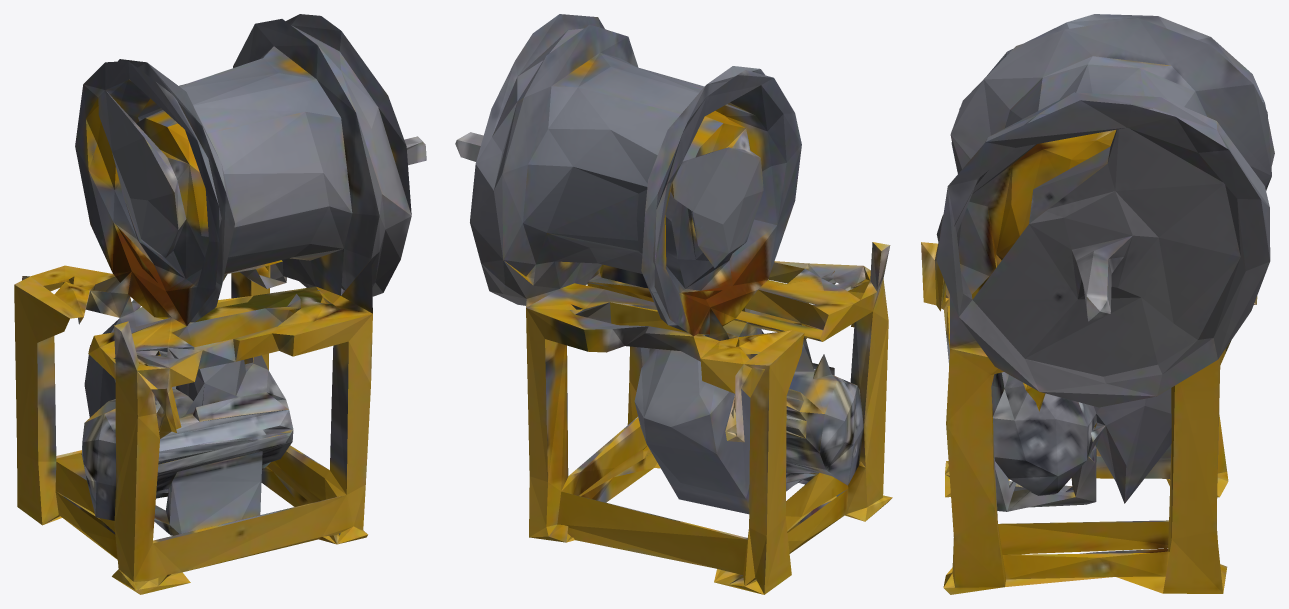
Rendered from zip_winch.glb.
The picture shows the model from 3 angles, left to right: view 1: azimuth 30°, elevation 25°; view 2: azimuth 150°, elevation 25°; view 3: azimuth 270°, elevation 25°; orthographic projection. The views are drawn at different scales.
Visible parts, largest first — view 1: textured_mesh.obj; view 2: textured_mesh.obj; view 3: textured_mesh.obj.
Part boxes in pixels (x1,y1,x2,y2): textured_mesh.obj: (14, 14, 426, 594); textured_mesh.obj: (455, 14, 892, 594); textured_mesh.obj: (921, 14, 1274, 594).
Bounding box in the file's own units: 0.667 × 0.8 × 0.4992.
1 material, 1 textured.
